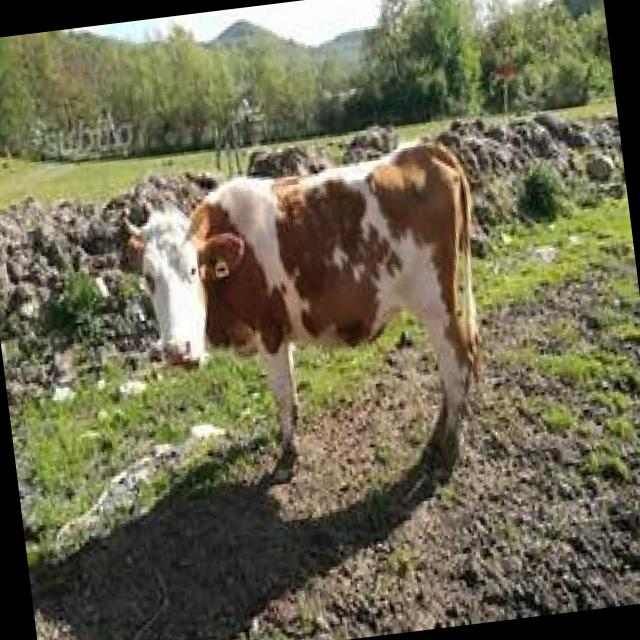animal: (115, 132, 504, 511)
